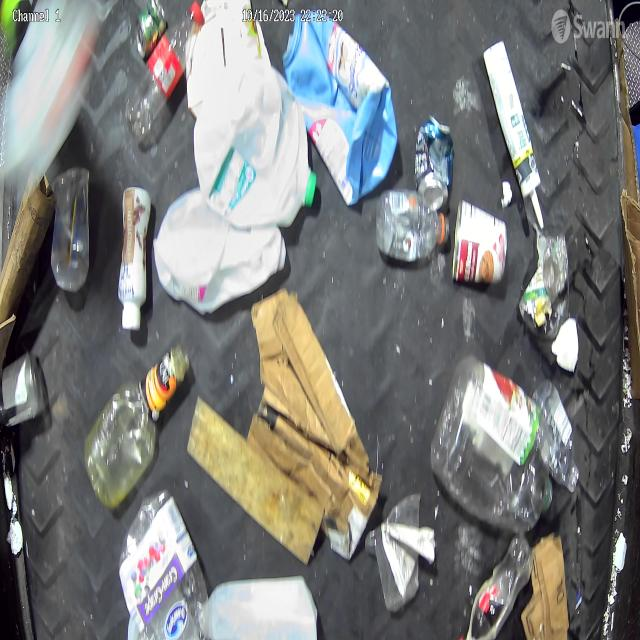can: (452, 199, 508, 286), (136, 0, 167, 59)
milk_jug: (194, 60, 318, 227), (155, 187, 286, 312), (207, 574, 318, 640)
non_white_jug: (282, 9, 398, 206), (430, 354, 552, 535)
plastic_bottle: (124, 0, 204, 143), (466, 534, 533, 640), (532, 382, 578, 494), (378, 191, 448, 264)
